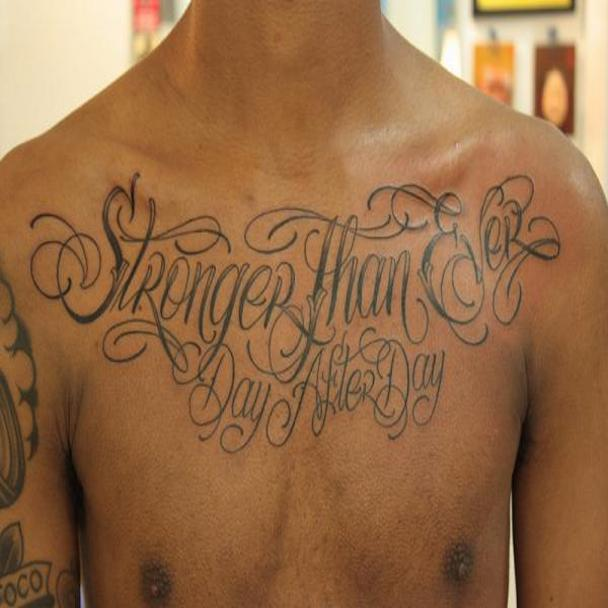tattoos: (28, 171, 562, 456), (1, 271, 40, 511), (1, 520, 57, 608), (56, 559, 81, 608)
